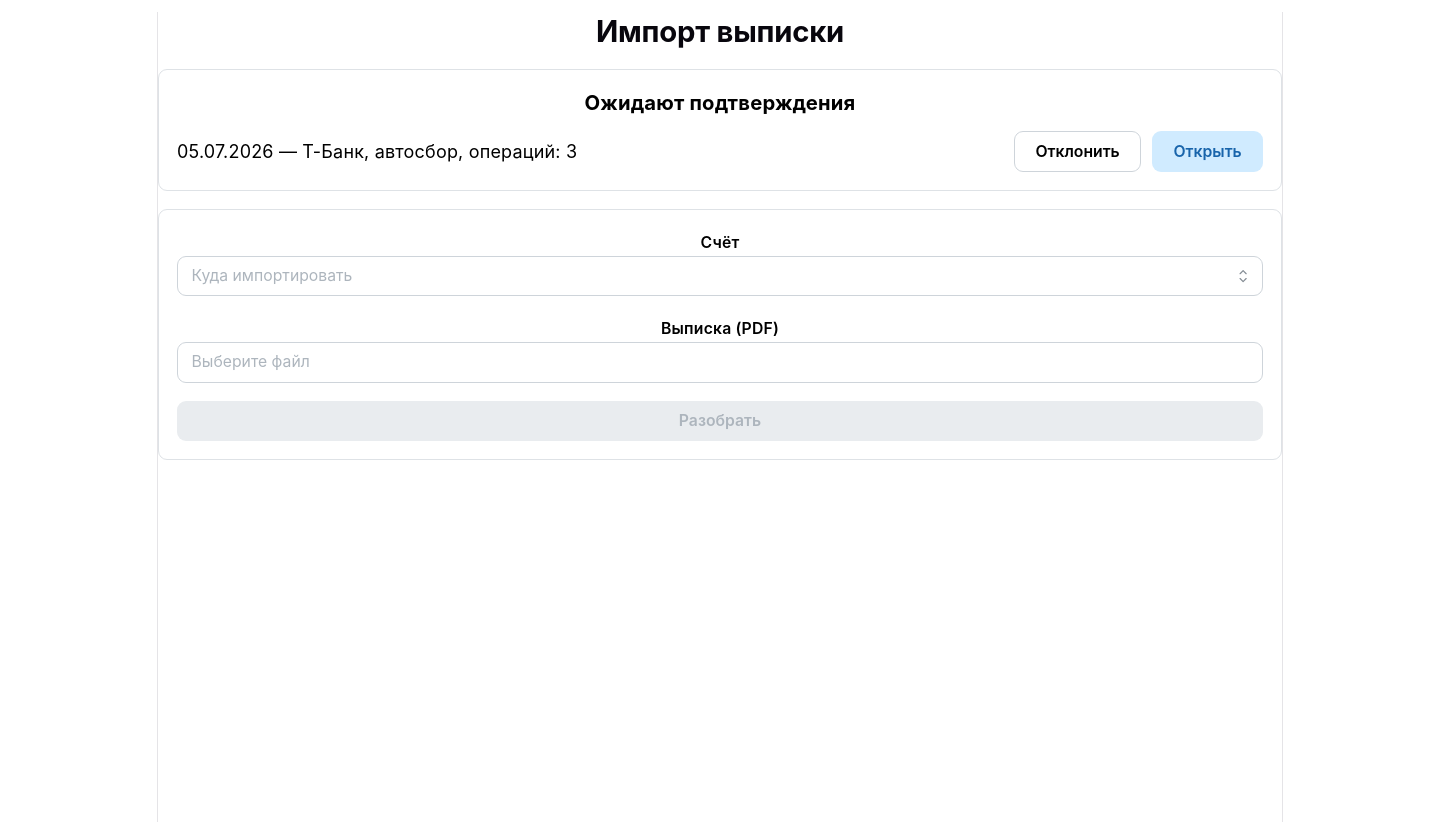
«Отклонить» в списке зовёт ручку и убирает импорт из ожидающих
Click the button "Отклонить".
click(1078, 152)  # box [1014, 131, 1141, 172]
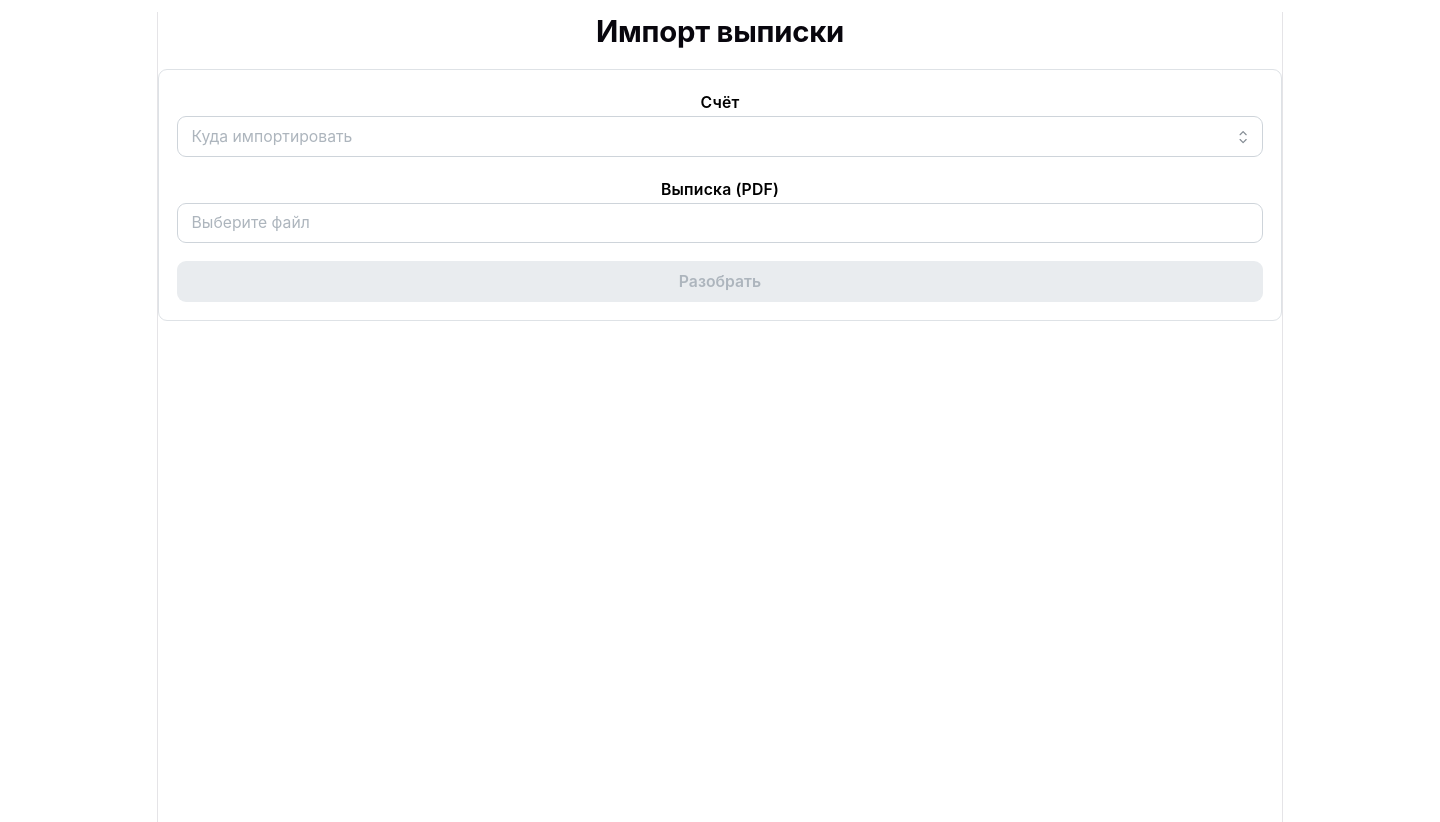
Result: the text "Т-Банк, автосбор" is gone
